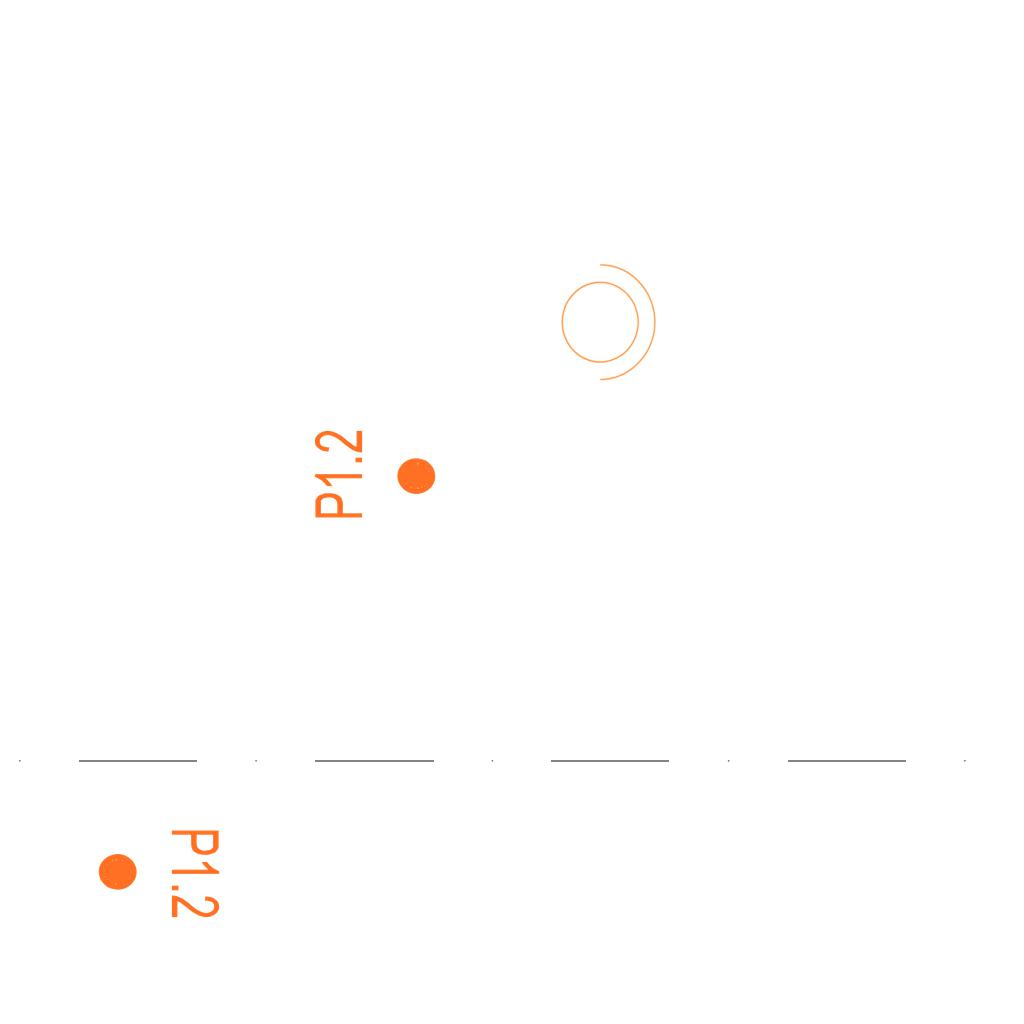Downlight_LED_Einbauleuchten_Flur: (311, 428, 439, 521), (95, 827, 223, 920)
Scheinwerfer_fuer_Alarmbeleuchtung: (549, 253, 661, 385)
